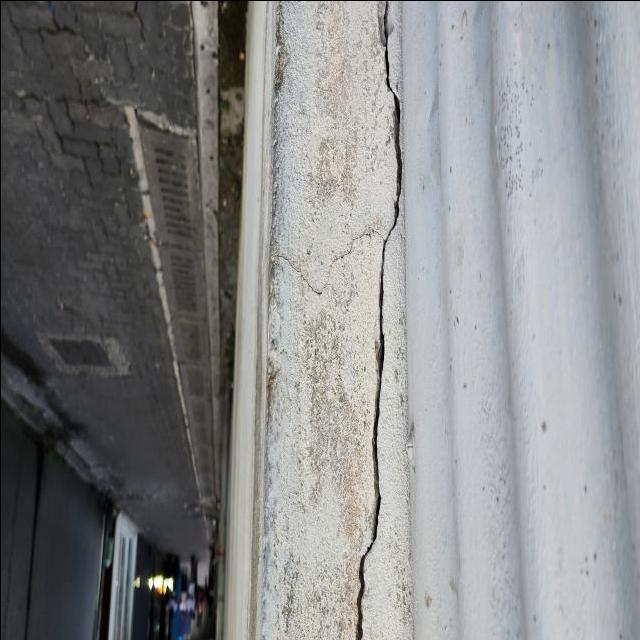SurfaceCrack: (0, 180, 266, 640), (323, 0, 446, 639)
